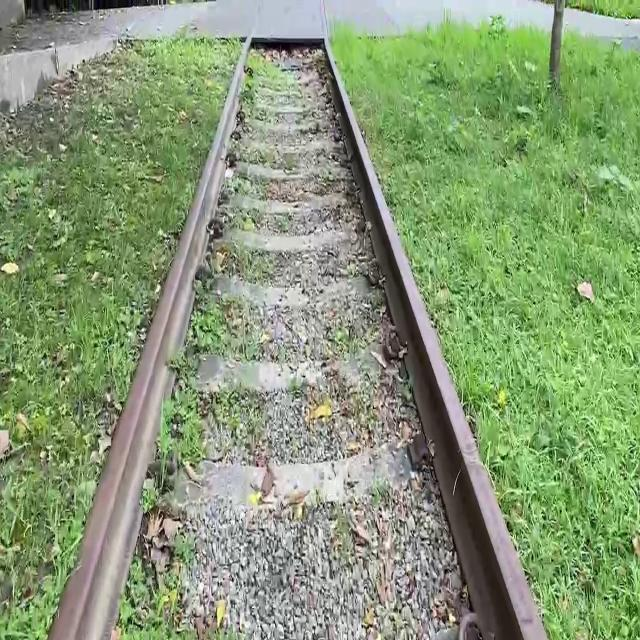rail: (32, 1, 597, 640)
